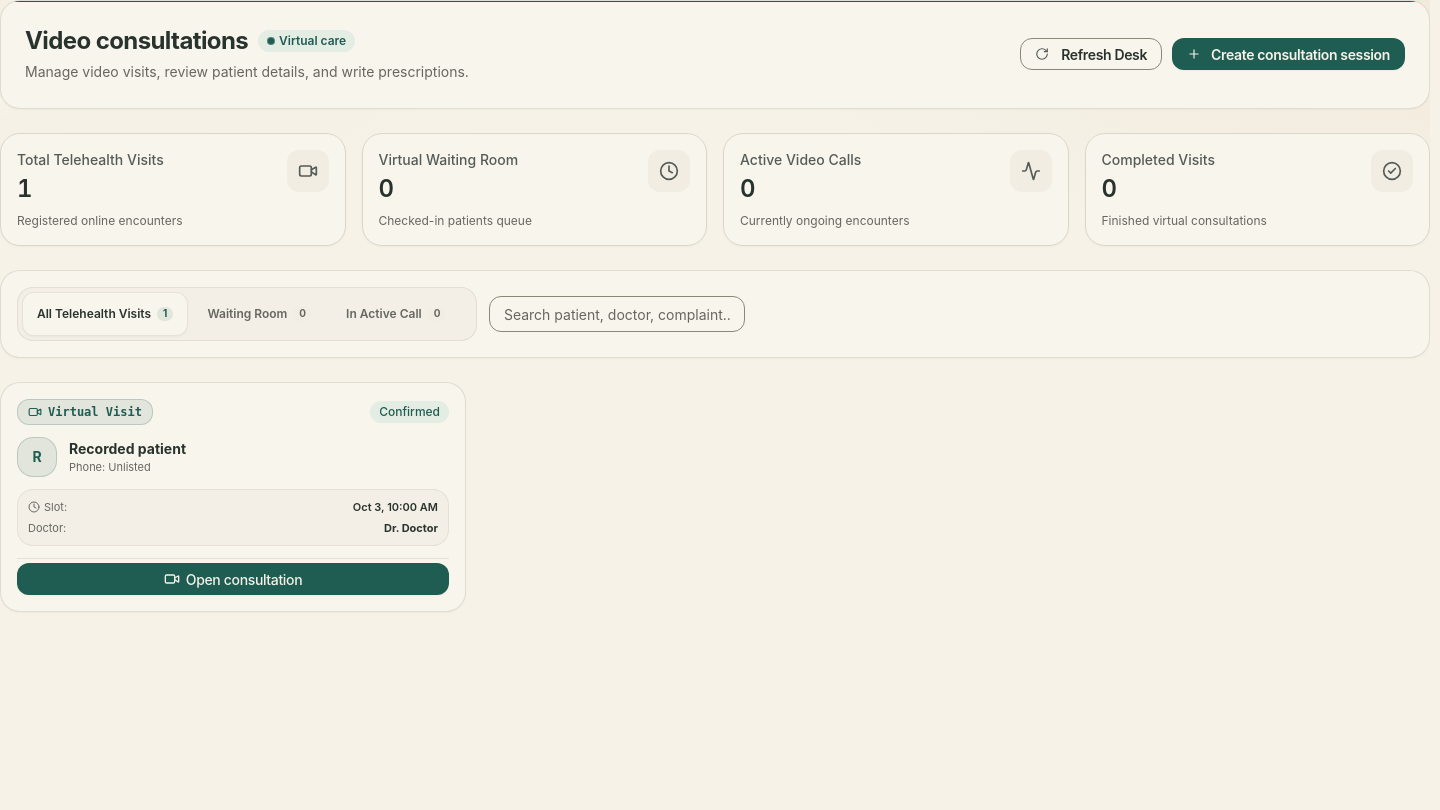
Test case: does not provision a session after a denied session read
What coordinates should you click on to do the following:
click the button "Open consultation"
I would click on:
 (233, 579)
Its box is [17,563,449,595].
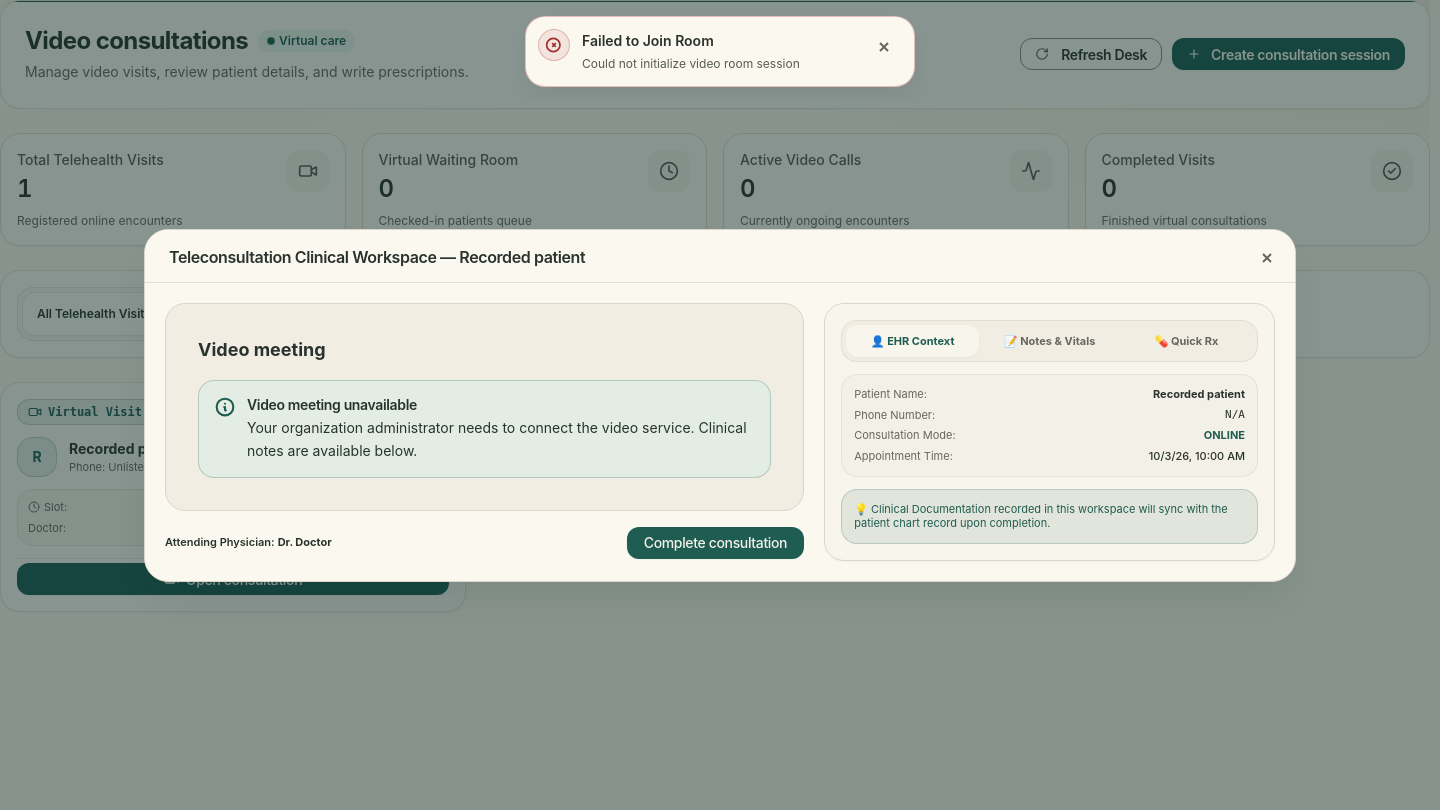
Expected: the text "Failed to Join Room" is shown, [582,32,714,49]
